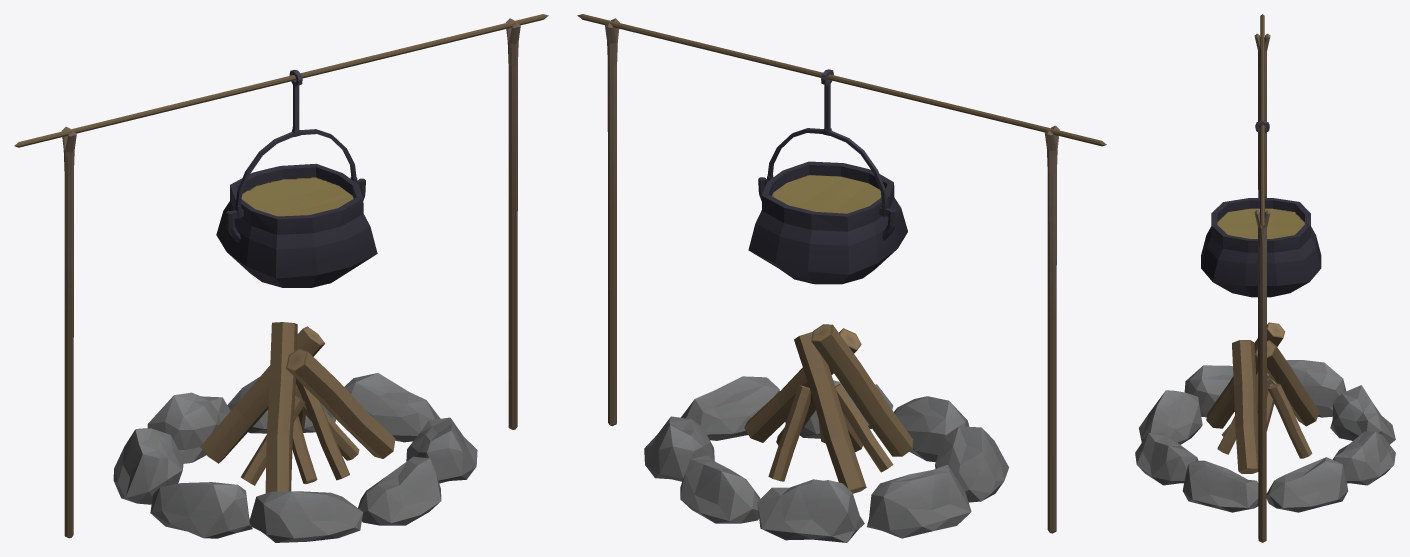
File: FirePitWithCauldron.fbx
3 views of the same model, side by side, from view 1: azimuth 30°, elevation 25°; view 2: azimuth 150°, elevation 25°; view 3: azimuth 270°, elevation 25° (orthographic). The views are drawn at different scales.
Visible parts, largest first — view 1: Icosphere, Cube.011, Cube.009, Cube.001, Cube.003, Cube.010, Cube.004, Cube.002, Cube.007, Cube.006, Cube.008; view 2: Icosphere, Cube.011, Cube.009, Cube.001, Cube.004, Cube.010, Cube.003, Cube.005, Cube.006; view 3: Icosphere, Cube.011, Cube.009, Cube.003, Cube.004, Cube.001, Cube.005, Cube.010, Cube.002.
Boxes of the visible parts, bbox=[...] form: Icosphere: bbox=[113, 373, 477, 542]; Cube.011: bbox=[216, 69, 377, 287]; Cube.009: bbox=[61, 18, 520, 538]; Cube.001: bbox=[265, 322, 297, 493]; Cube.003: bbox=[286, 348, 395, 458]; Cube.010: bbox=[14, 14, 548, 147]; Cube.004: bbox=[200, 326, 324, 463]; Cube.002: bbox=[296, 378, 349, 480]; Cube.007: bbox=[292, 416, 317, 483]; Cube.006: bbox=[241, 396, 305, 485]; Cube.008: bbox=[295, 384, 359, 460]; Icosphere: bbox=[644, 376, 1008, 542]; Cube.011: bbox=[748, 69, 907, 284]; Cube.009: bbox=[605, 18, 1059, 533]; Cube.001: bbox=[811, 324, 913, 456]; Cube.004: bbox=[794, 332, 866, 493]; Cube.010: bbox=[577, 14, 1106, 146]; Cube.003: bbox=[744, 328, 861, 442]; Cube.005: bbox=[768, 385, 811, 481]; Cube.006: bbox=[835, 384, 893, 472]; Icosphere: bbox=[1135, 360, 1395, 512]; Cube.011: bbox=[1201, 120, 1321, 297]; Cube.009: bbox=[1254, 33, 1270, 542]; Cube.003: bbox=[1232, 340, 1258, 473]; Cube.004: bbox=[1255, 340, 1319, 426]; Cube.001: bbox=[1206, 322, 1285, 428]; Cube.005: bbox=[1268, 383, 1312, 458]; Cube.010: bbox=[1260, 14, 1264, 226]; Cube.002: bbox=[1217, 371, 1269, 454].
Size of the model in its own units: 246 by 182 by 127.
Materials: 3 (3 with a texture image).
